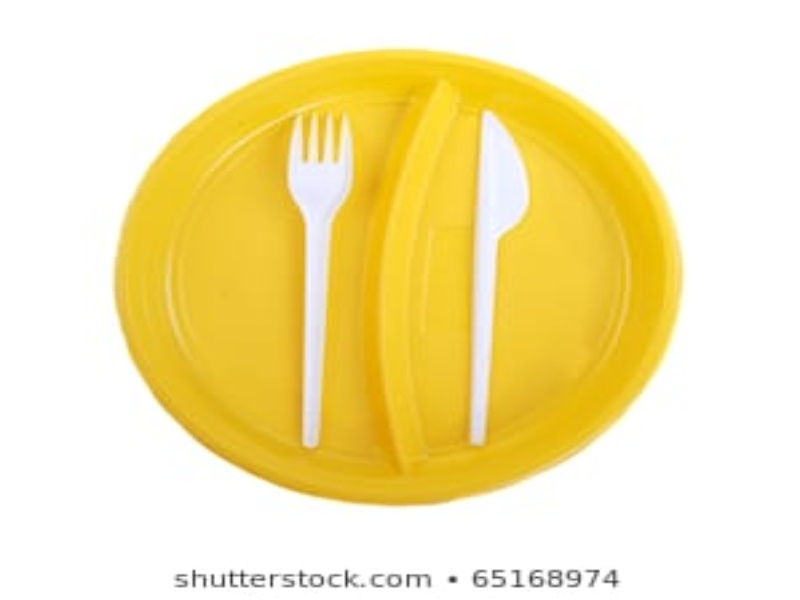plastic-plate: (114, 45, 679, 508)
plastic-silverware: (285, 106, 360, 450), (464, 105, 530, 452)
